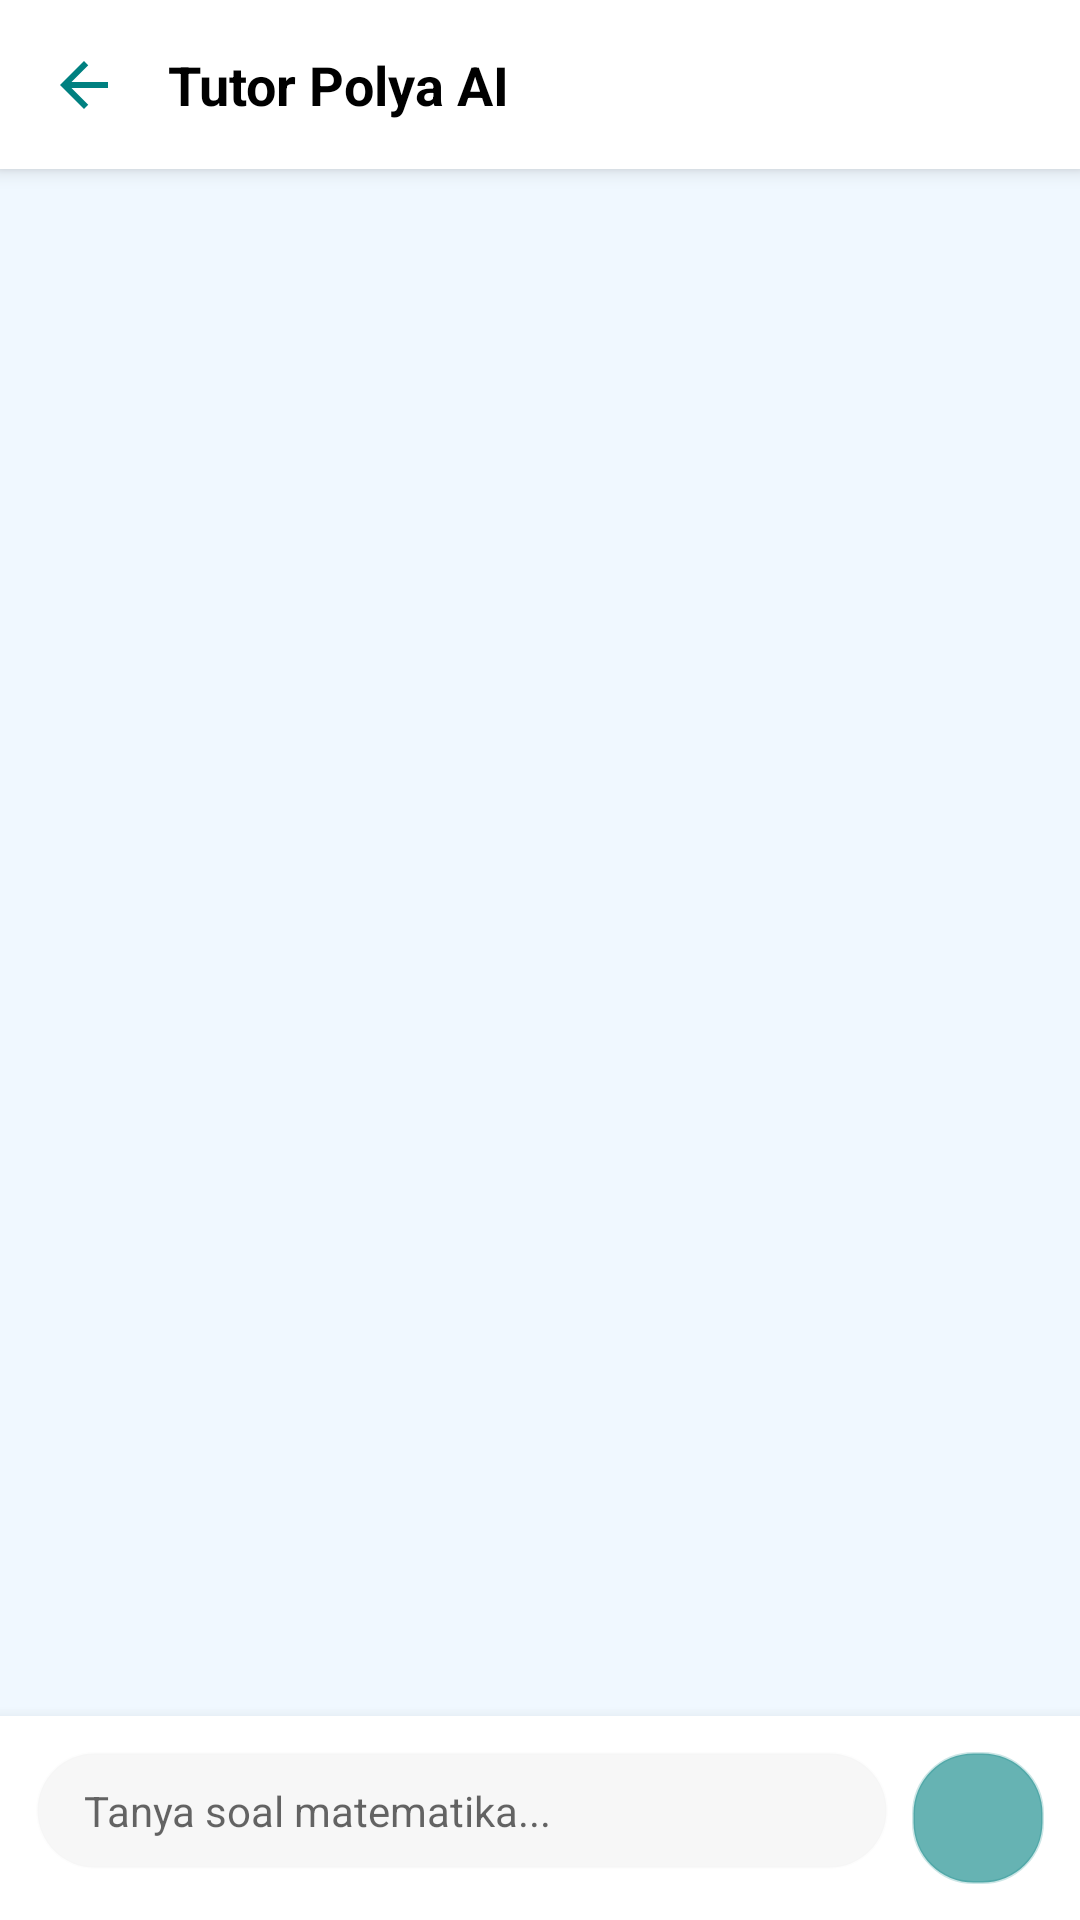

Icons on this 1080 × 1920 Android screen, each with its box as (x1, y1, x2, y2):
back: (60, 61, 108, 109)
